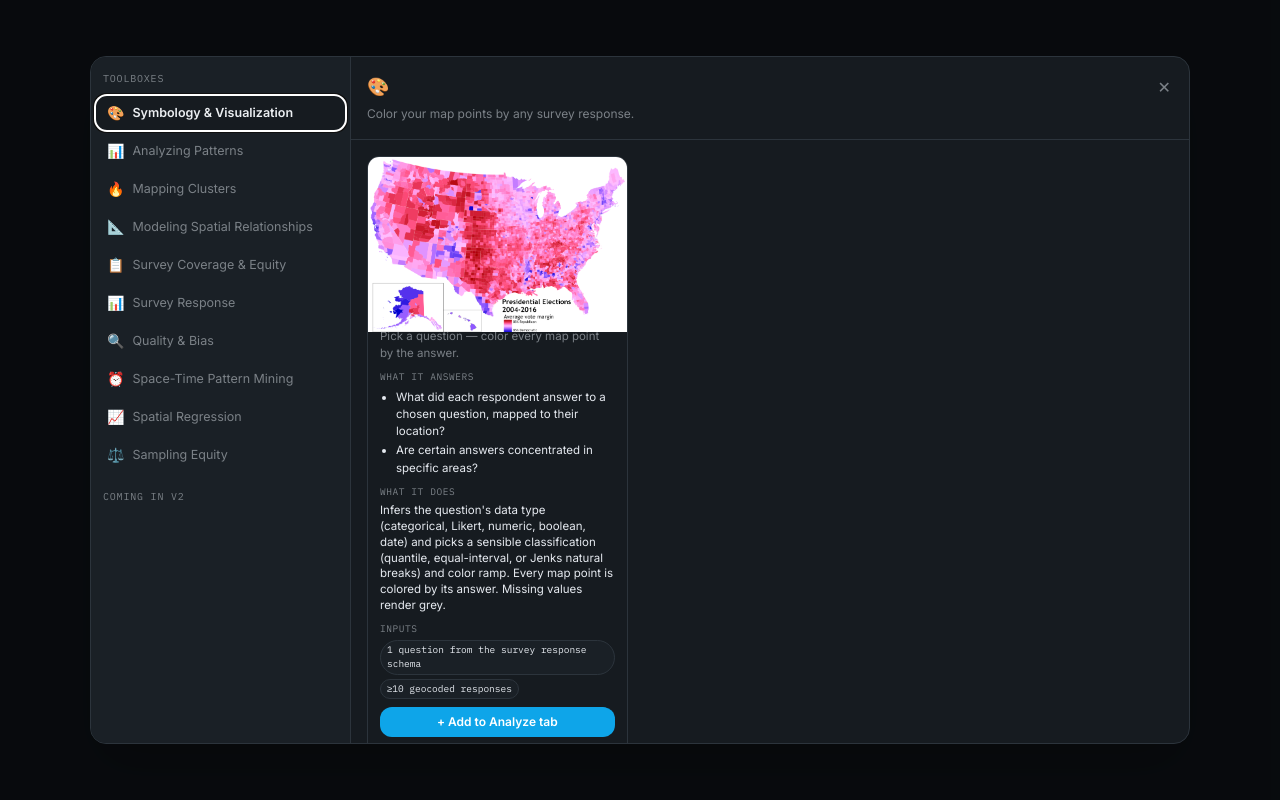
AddAnalysisModal › clicking a v1 toolbox shows its cards
This screenshot has width=1280, height=800.
Click the text "Mapping Clusters" at (184, 189), box x1=132 y1=179 x2=236 y2=199
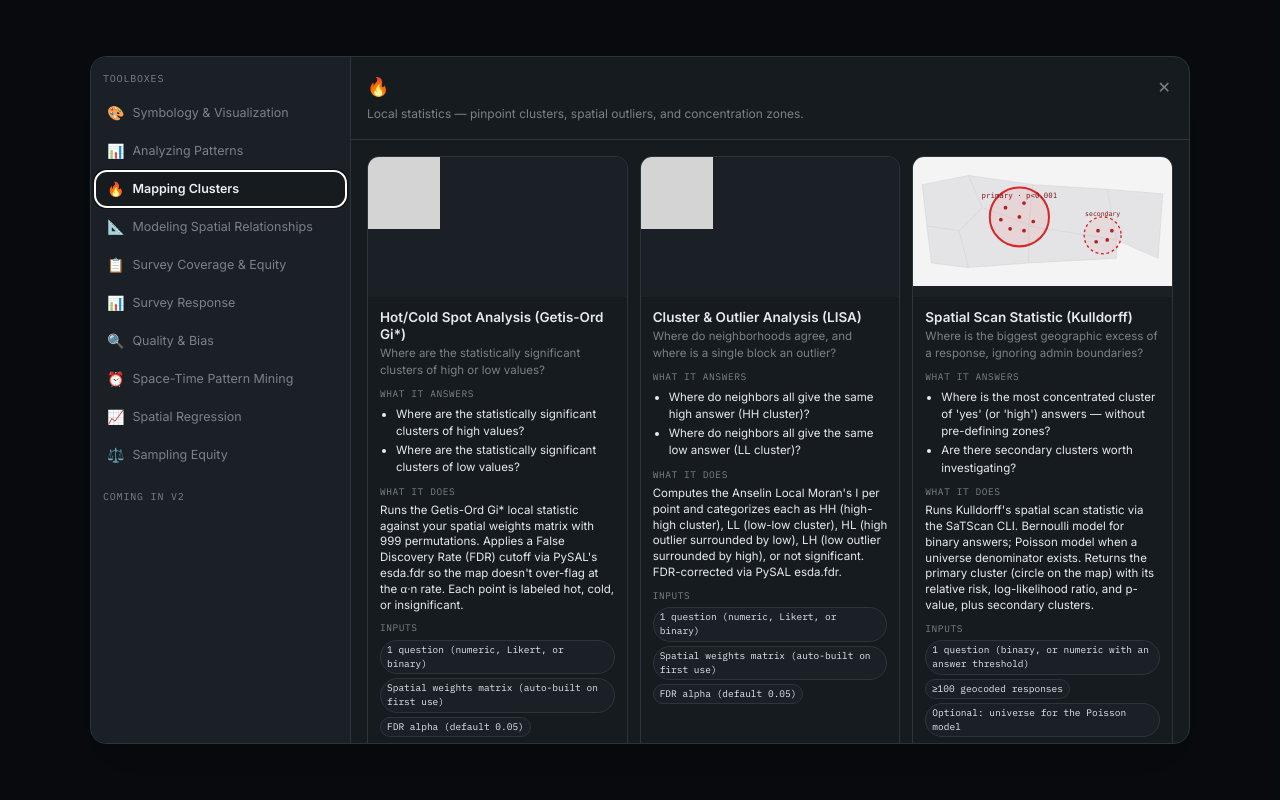
expect the heading "Hot/Cold Spot Analysis (Getis-Ord Gi*)" is shown: met, box x1=380 y1=309 x2=615 y2=343
expect the heading "Cluster & Outlier Analysis (LISA)" is shown: met, box x1=653 y1=309 x2=887 y2=326
